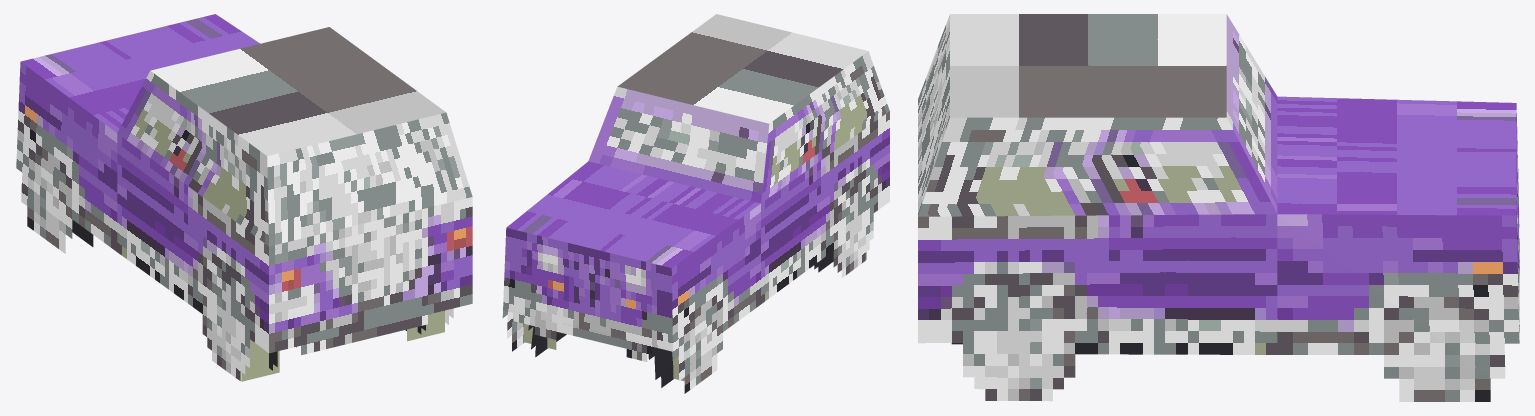
Rendered from car-jeep.glb.
3 renders of one model, left to right at view 1: azimuth 30°, elevation 25°; view 2: azimuth 150°, elevation 25°; view 3: azimuth 270°, elevation 25°, orthographic. The views are drawn at different scales.
Parts seen in each view (by area): view 1: car-jeep; view 2: car-jeep; view 3: car-jeep.
Part boxes in pixels (x1=…): car-jeep: x1=16, y1=14, x2=472, y2=381; car-jeep: x1=502, y1=14, x2=889, y2=393; car-jeep: x1=918, y1=14, x2=1519, y2=401.
Bounding box in the file's own units: 1.5 × 1.65 × 3.25.
Materials: 13 (13 with a texture image).
